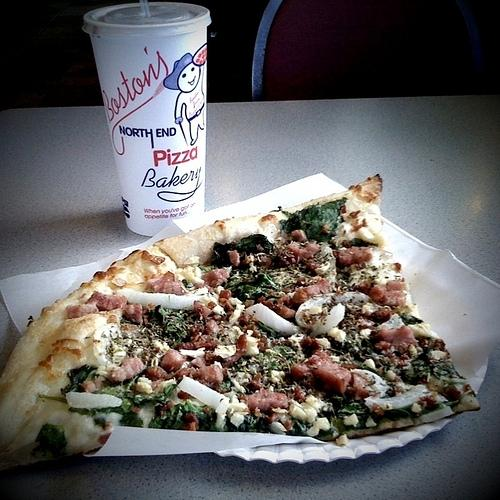onion: (245, 303, 306, 336), (116, 288, 203, 310), (178, 377, 229, 414), (364, 384, 428, 409), (295, 296, 334, 332), (310, 302, 346, 336), (66, 392, 122, 411), (350, 368, 386, 391), (378, 313, 404, 330), (212, 344, 237, 358), (315, 262, 330, 274)
